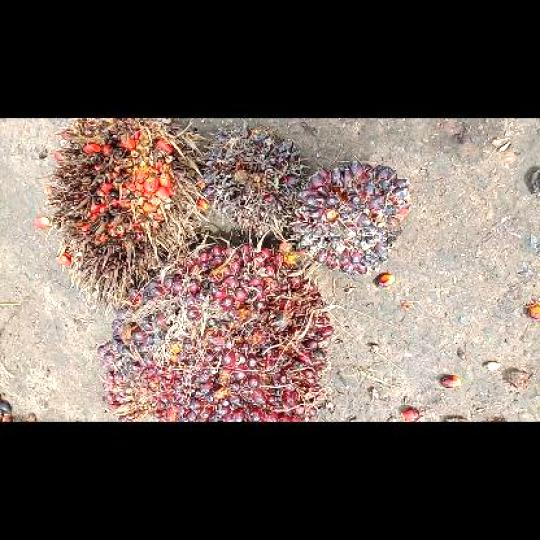masak: (96, 241, 335, 421)
terlalu masak: (39, 118, 204, 316)
